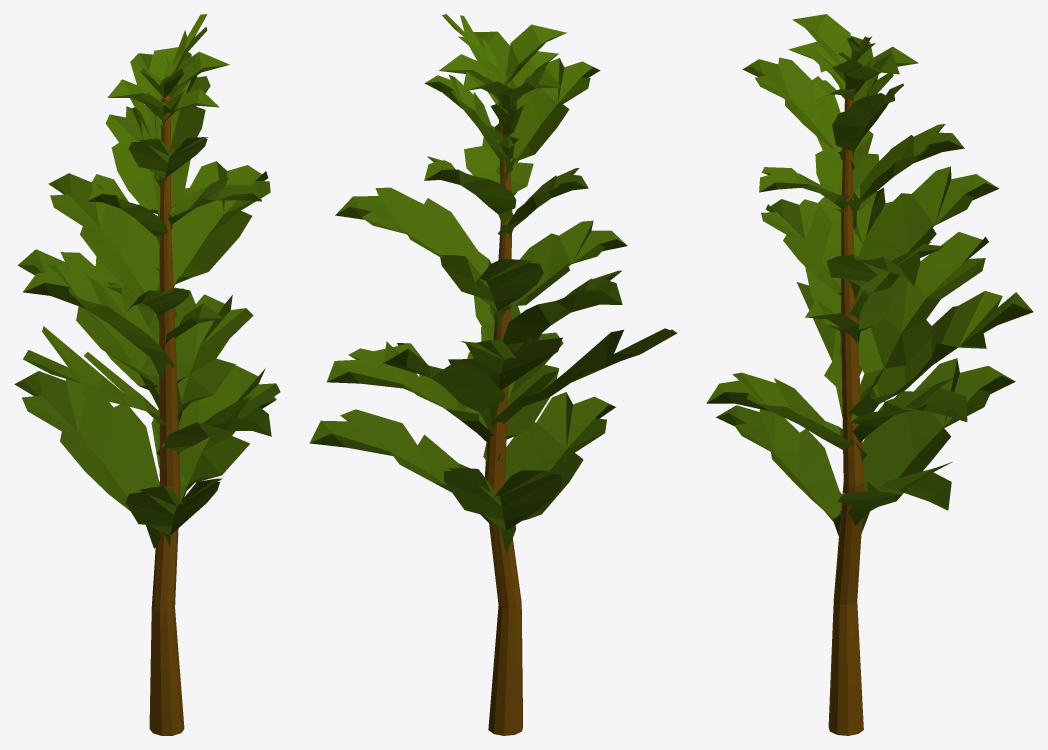
The picture shows the model from 3 angles, left to right: view 1: azimuth 30°, elevation 25°; view 2: azimuth 150°, elevation 25°; view 3: azimuth 270°, elevation 25°; orthographic projection. The views are drawn at different scales.
Visible parts, largest first — view 1: coniferous_trees_10; view 2: coniferous_trees_10; view 3: coniferous_trees_10.
Boxes of the visible parts, x1,y1,x2,y2 form: coniferous_trees_10: [14, 14, 280, 735]; coniferous_trees_10: [309, 14, 676, 735]; coniferous_trees_10: [706, 14, 1033, 735].
Size of the model in its own units: 1.24 by 2.76 by 1.14.
